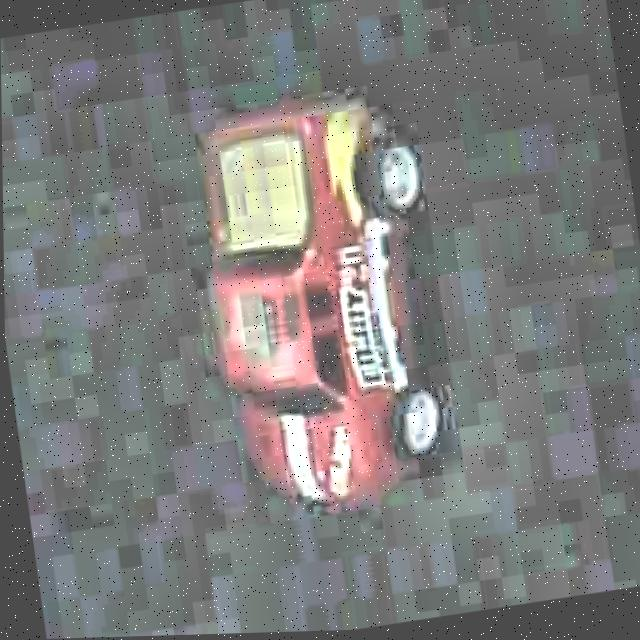car: (177, 76, 468, 530)
